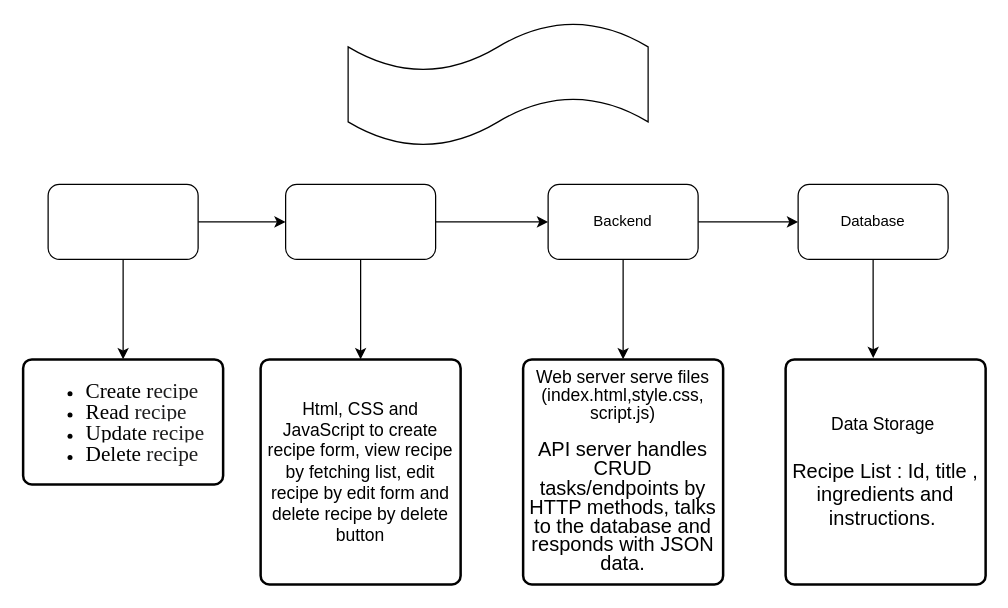
Image size: 1008x608. Some labels were removed from this diagram. Each missing label, with the box of its shape:
Architecture Diagram: (347, 21, 648, 147)
Frontend: (284, 183, 436, 259)
User: (47, 183, 198, 259)
